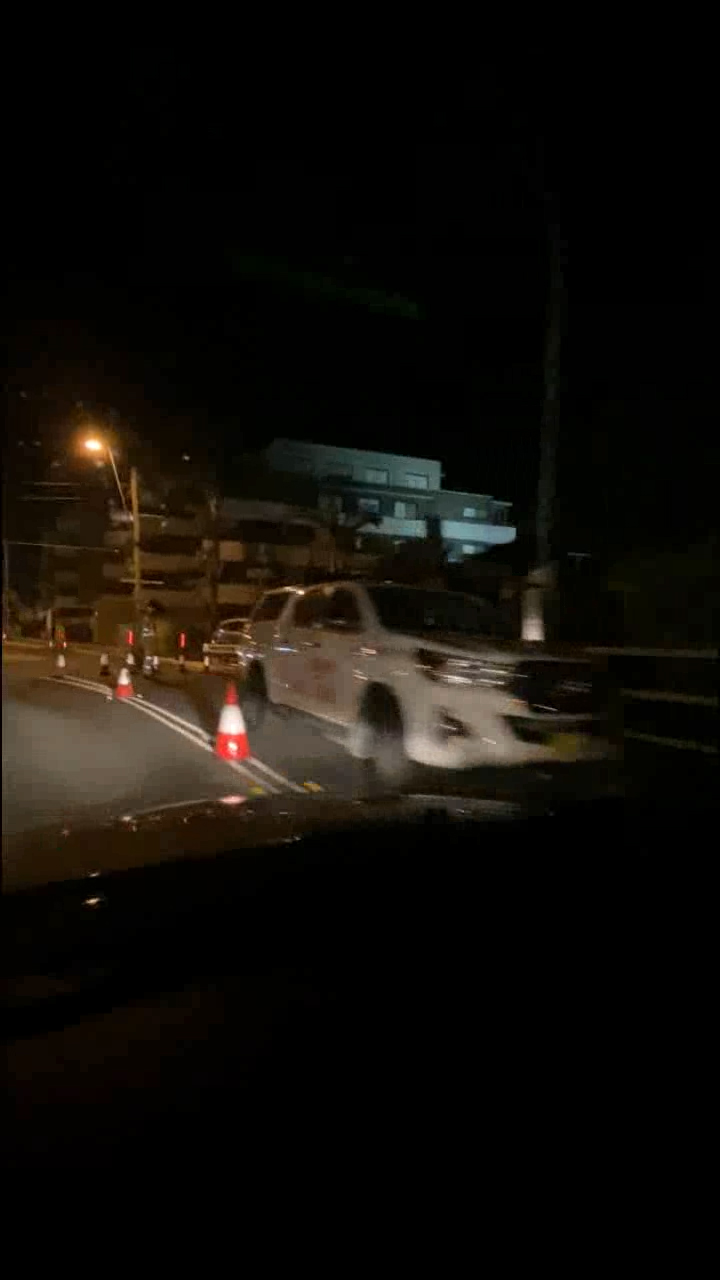road cone: (213, 678, 250, 757), (118, 665, 135, 703)
